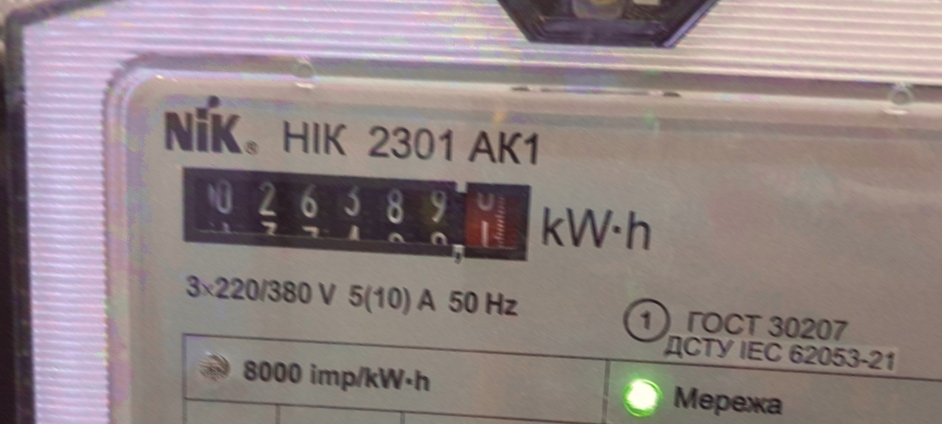0: (210, 177, 236, 218), (475, 192, 495, 214)
1: (476, 219, 491, 251)
2: (254, 179, 280, 220)
3: (341, 185, 361, 220)
6: (298, 181, 319, 222)
8: (383, 187, 407, 227)
9: (427, 190, 447, 225)
screen: (162, 148, 548, 282)
